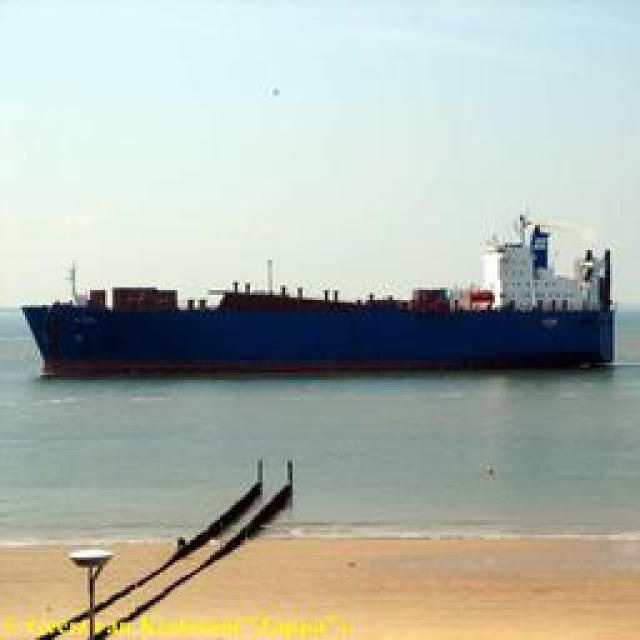Ship: (27, 232, 620, 380)
